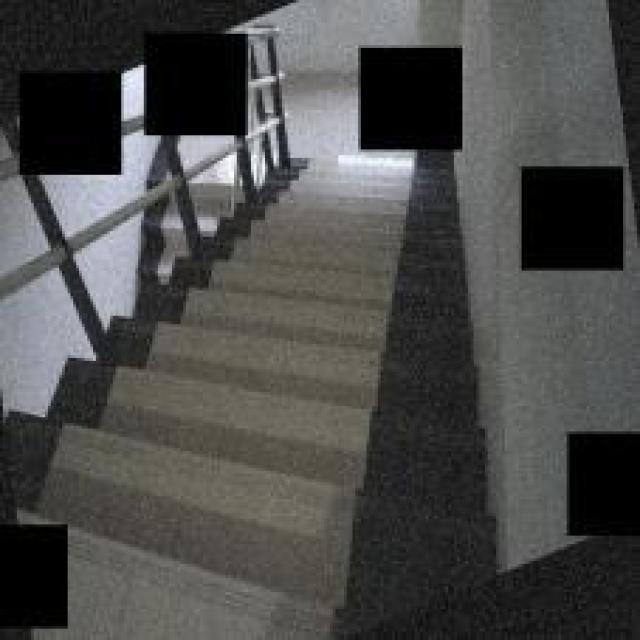downstair: (125, 314, 432, 635)
